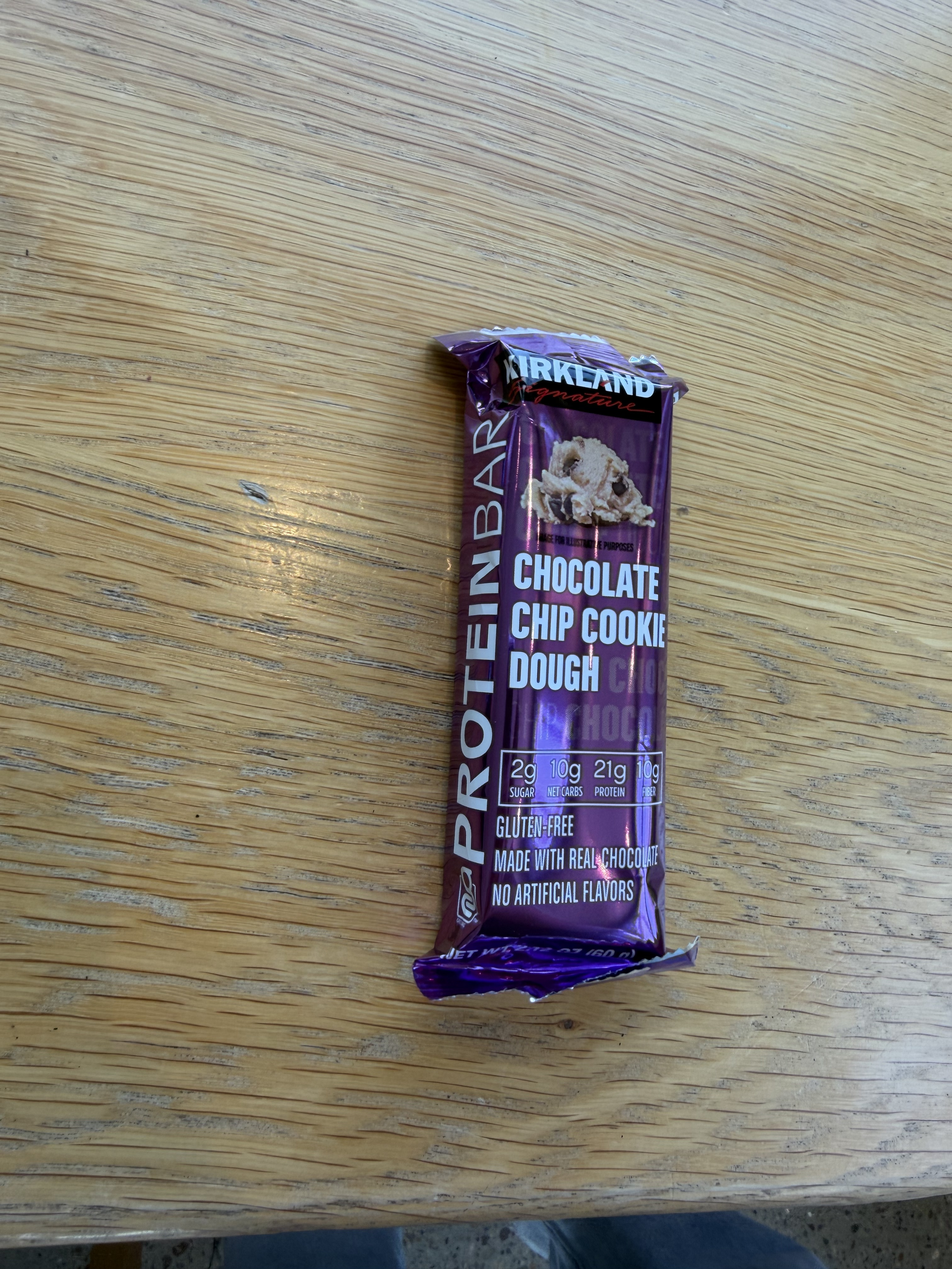chocolate_chip_cookie_dough: (401, 291, 713, 1006)
